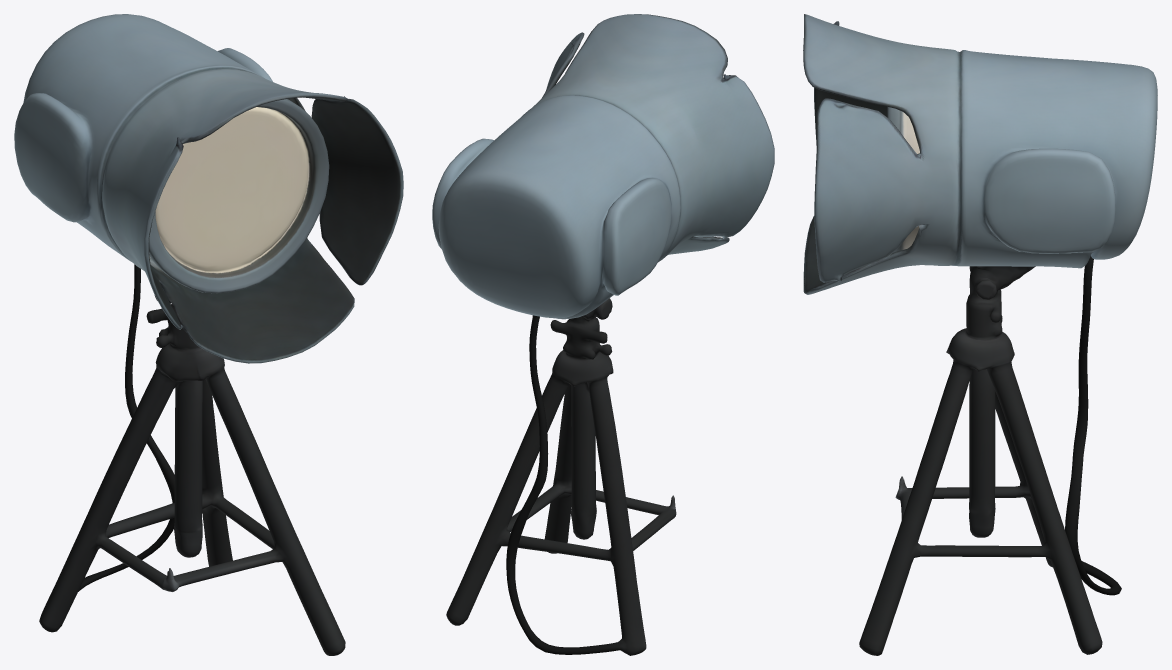
Rendered from text_attempt.glb.
3 renders of one model, left to right at view 1: azimuth 30°, elevation 25°; view 2: azimuth 150°, elevation 25°; view 3: azimuth 270°, elevation 25°, orthographic. The views are drawn at different scales.
Visible parts, largest first — view 1: model; view 2: model; view 3: model.
Boxes of the visible parts, x1=… form: model: x1=14, y1=14, x2=403, y2=655; model: x1=432, y1=14, x2=774, y2=655; model: x1=803, y1=14, x2=1157, y2=655.
Bounding box in the file's own units: 0.85 × 1.9 × 1.05.
1 material, 1 textured.
